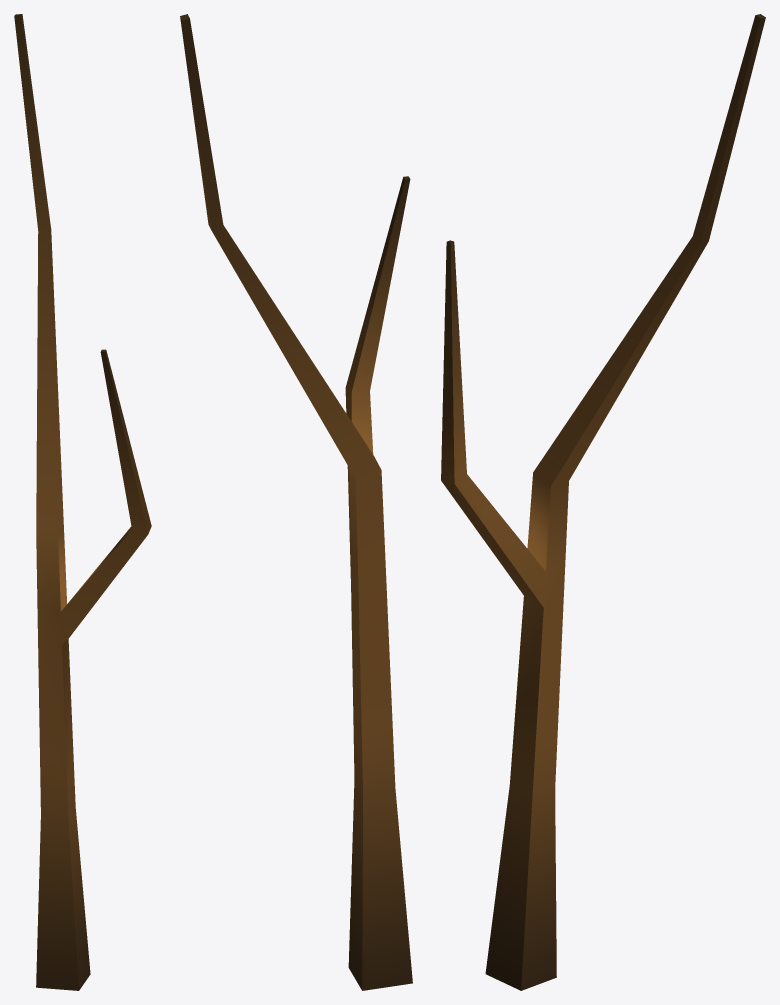
File: TreeDead_Sml-01.FBX
3 renders of one model, left to right at view 1: azimuth 30°, elevation 25°; view 2: azimuth 150°, elevation 25°; view 3: azimuth 270°, elevation 25°, orthographic. The views are drawn at different scales.
Visible parts, largest first — view 1: TreeDead_Sml-01; view 2: TreeDead_Sml-01; view 3: TreeDead_Sml-01.
Boxes of the visible parts, x1=… form: TreeDead_Sml-01: x1=14, y1=14, x2=151, y2=990; TreeDead_Sml-01: x1=180, y1=14, x2=412, y2=990; TreeDead_Sml-01: x1=441, y1=14, x2=765, y2=990.
Bounding box in the file's own units: 9.23 × 82.12 × 24.28.
Materials: 1 (1 with a texture image).
